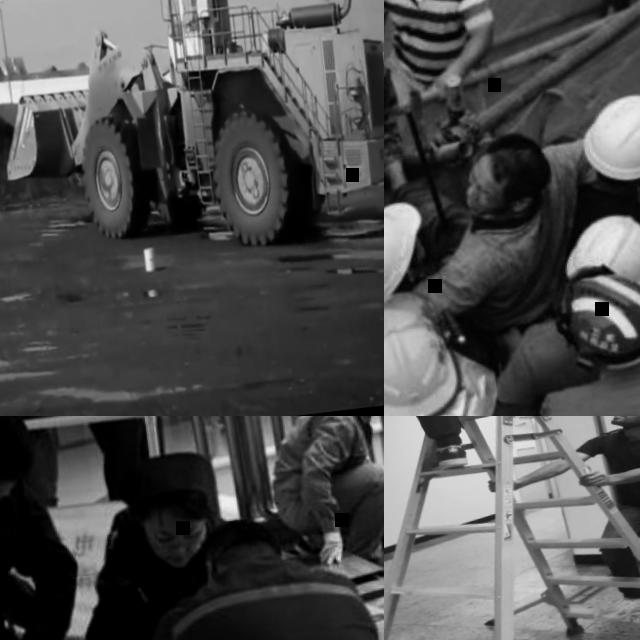Hardhat: (384, 297, 479, 416), (565, 61, 640, 193), (563, 267, 640, 365), (384, 184, 438, 317), (558, 206, 640, 292)
NO-Hardhat: (127, 459, 214, 520), (485, 127, 554, 195), (201, 512, 283, 562), (0, 416, 39, 484)
NO-Mask: (155, 542, 202, 570), (462, 189, 491, 220), (609, 416, 640, 428)
NO-Safety Vest: (168, 549, 384, 640), (465, 180, 588, 332), (114, 524, 212, 640), (266, 416, 369, 494), (384, 0, 476, 80), (520, 323, 607, 403), (568, 156, 638, 238), (596, 423, 640, 506)
Person: (400, 108, 624, 347), (78, 496, 384, 640), (54, 443, 253, 640), (478, 416, 640, 633), (0, 416, 103, 640), (481, 266, 640, 405), (258, 416, 384, 583), (544, 85, 640, 264), (42, 416, 187, 511), (384, 0, 503, 107), (384, 182, 437, 319)
vehicle: (0, 0, 384, 278)
